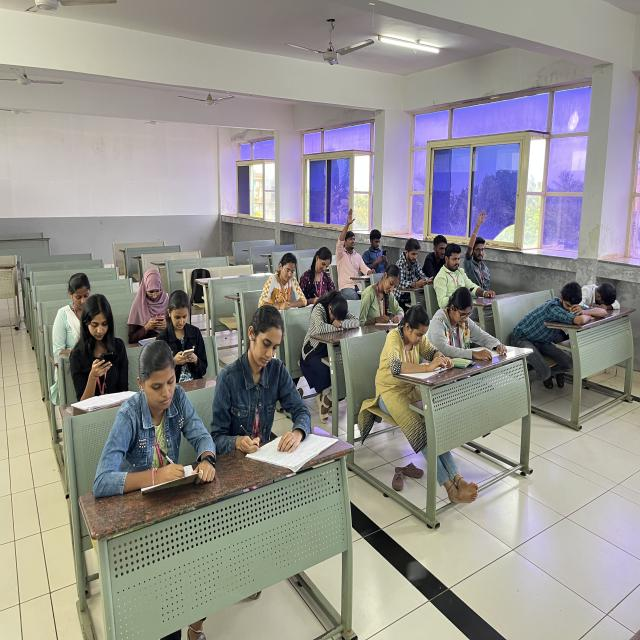Hand Rising: (464, 207, 498, 290), (330, 218, 364, 296)
Reading: (363, 307, 432, 482), (436, 287, 505, 365)
Sleeping: (510, 282, 604, 389), (296, 294, 344, 429), (576, 278, 620, 310)
Using Phone: (69, 294, 130, 404), (155, 290, 207, 382), (434, 232, 488, 319), (51, 273, 89, 391), (128, 268, 170, 342), (397, 237, 429, 309), (360, 226, 395, 273)
Writing: (95, 333, 227, 622), (217, 308, 306, 457), (258, 253, 304, 311), (358, 266, 398, 329), (299, 250, 333, 305)
